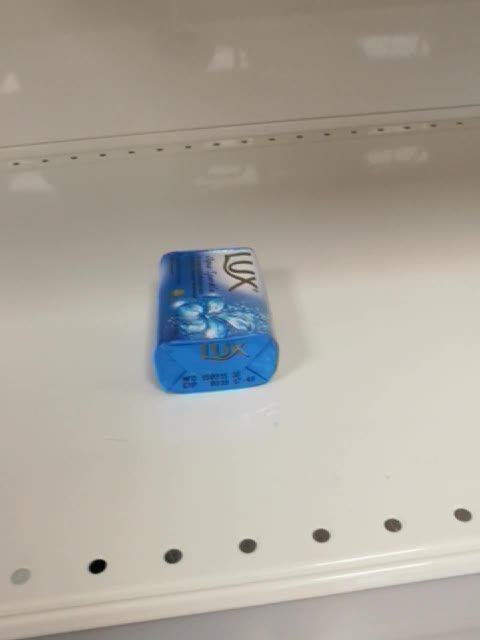soap: (151, 244, 281, 397)
